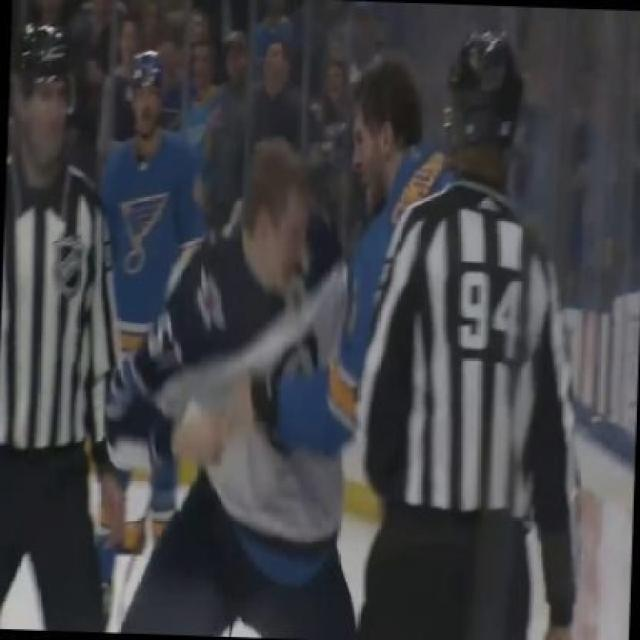fight: (96, 31, 570, 637)
non-fight: (336, 24, 591, 638), (0, 0, 134, 636)
